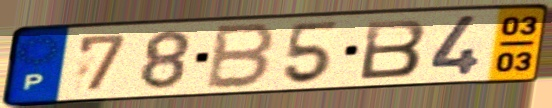4: (427, 12, 487, 78)
5: (279, 19, 341, 87)
7: (76, 32, 128, 94)
8: (138, 28, 194, 91)
B: (202, 21, 280, 91), (357, 17, 430, 82)
